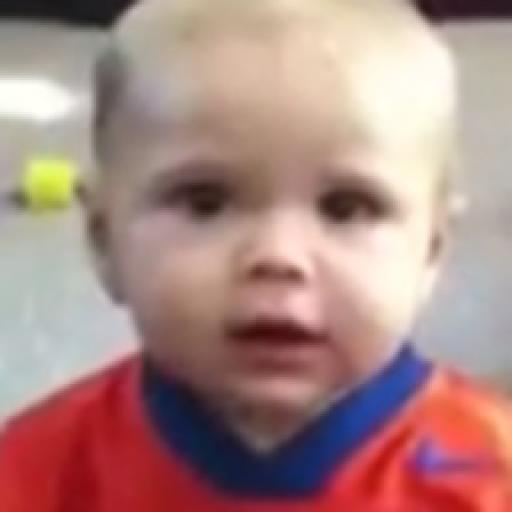Autism: (62, 0, 426, 499)
